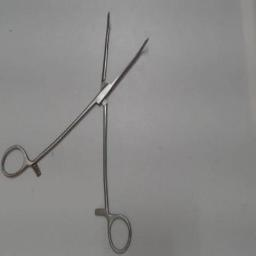Lahey Forceps: (1, 6, 155, 256)
